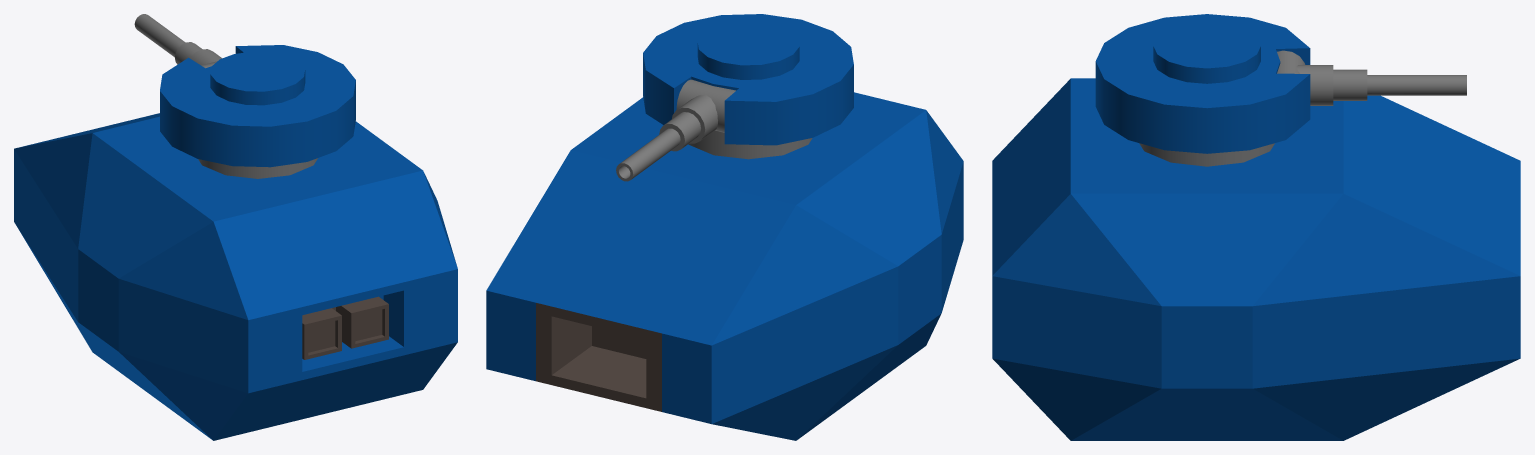
The model's file is hover_armed.fbx.
3 renders of one model, left to right at view 1: azimuth 30°, elevation 25°; view 2: azimuth 150°, elevation 25°; view 3: azimuth 270°, elevation 25°, orthographic. The views are drawn at different scales.
Visible parts, largest first — view 1: Cube.046, Cylinder.052, Cube.053, Cylinder.054, Cylinder.051; view 2: Cube.046, Cylinder.052, Cylinder.054, Cylinder.051, Cylinder.053; view 3: Cube.046, Cylinder.052, Cylinder.054, Cylinder.051.
Part boxes in pixels (left/top/right/bottom): Cube.046: left=14, top=113, right=457, bottom=440; Cylinder.052: left=160, top=45, right=355, bottom=167; Cube.053: left=302, top=296, right=388, bottom=359; Cylinder.054: left=134, top=14, right=222, bottom=64; Cylinder.051: left=198, top=158, right=317, bottom=178; Cube.046: left=486, top=92, right=963, bottom=440; Cylinder.052: left=643, top=14, right=853, bottom=145; Cylinder.054: left=616, top=95, right=717, bottom=181; Cylinder.051: left=688, top=130, right=812, bottom=159; Cylinder.053: left=676, top=79, right=735, bottom=132; Cube.046: left=992, top=78, right=1520, bottom=440; Cylinder.052: left=1095, top=14, right=1310, bottom=153; Cylinder.054: left=1296, top=65, right=1466, bottom=105; Cylinder.051: left=1139, top=143, right=1274, bottom=166.
Size of the model in its own units: 572 by 513 by 728.
